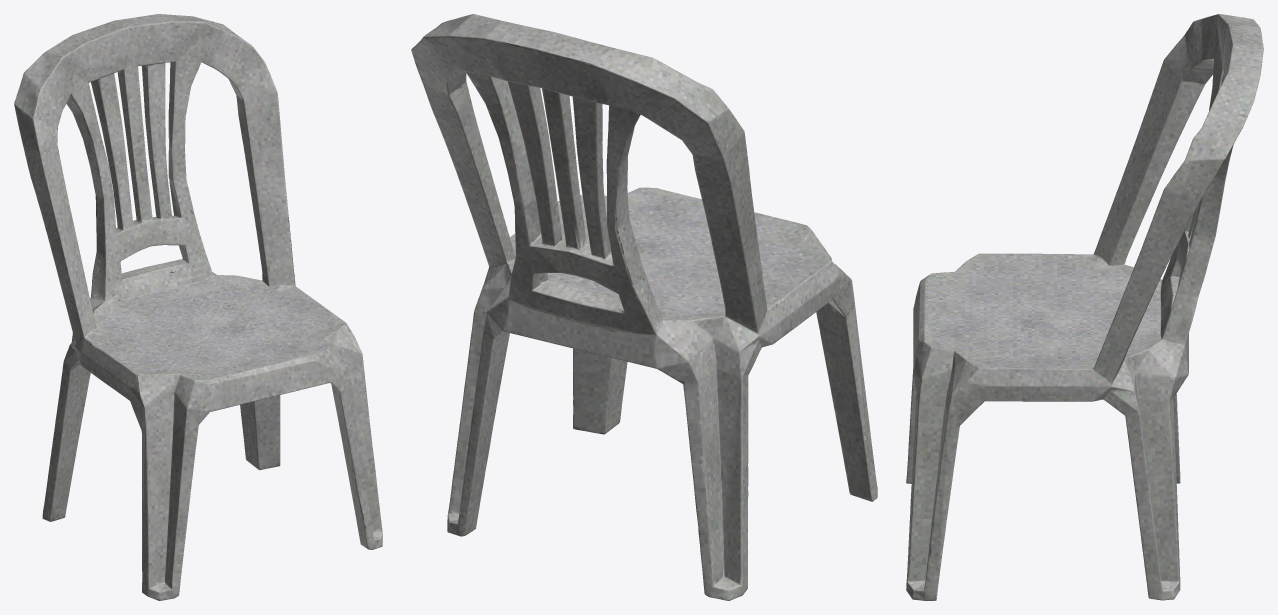
The model's file is plastic_chair_psx.glb.
3 renders of one model, left to right at view 1: azimuth 30°, elevation 25°; view 2: azimuth 150°, elevation 25°; view 3: azimuth 270°, elevation 25°, orthographic. The views are drawn at different scales.
Parts seen in each view (by area): view 1: cadeira_plastico; view 2: cadeira_plastico; view 3: cadeira_plastico.
Boxes of the visible parts, bbox=[...] form: cadeira_plastico: bbox=[14, 14, 382, 600]; cadeira_plastico: bbox=[411, 14, 877, 600]; cadeira_plastico: bbox=[906, 14, 1263, 600].
Bounding box in the file's own units: 0.5234 × 0.927 × 0.6076.
Materials: 1 (1 with a texture image).
